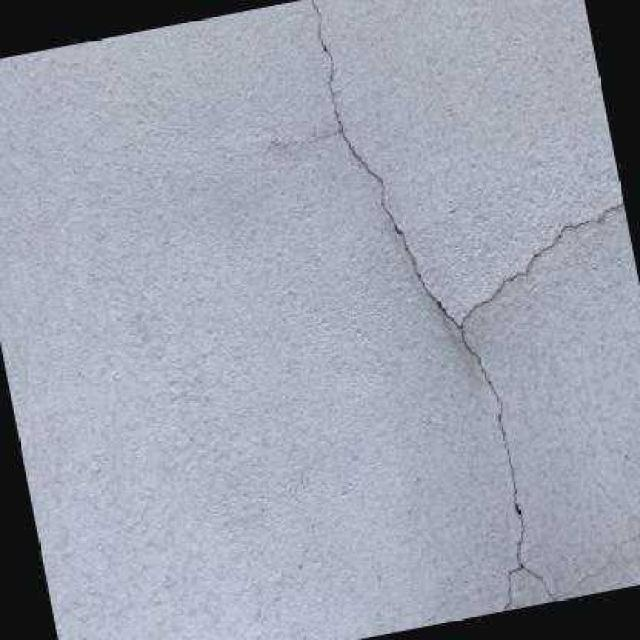D00: (309, 0, 623, 611)
